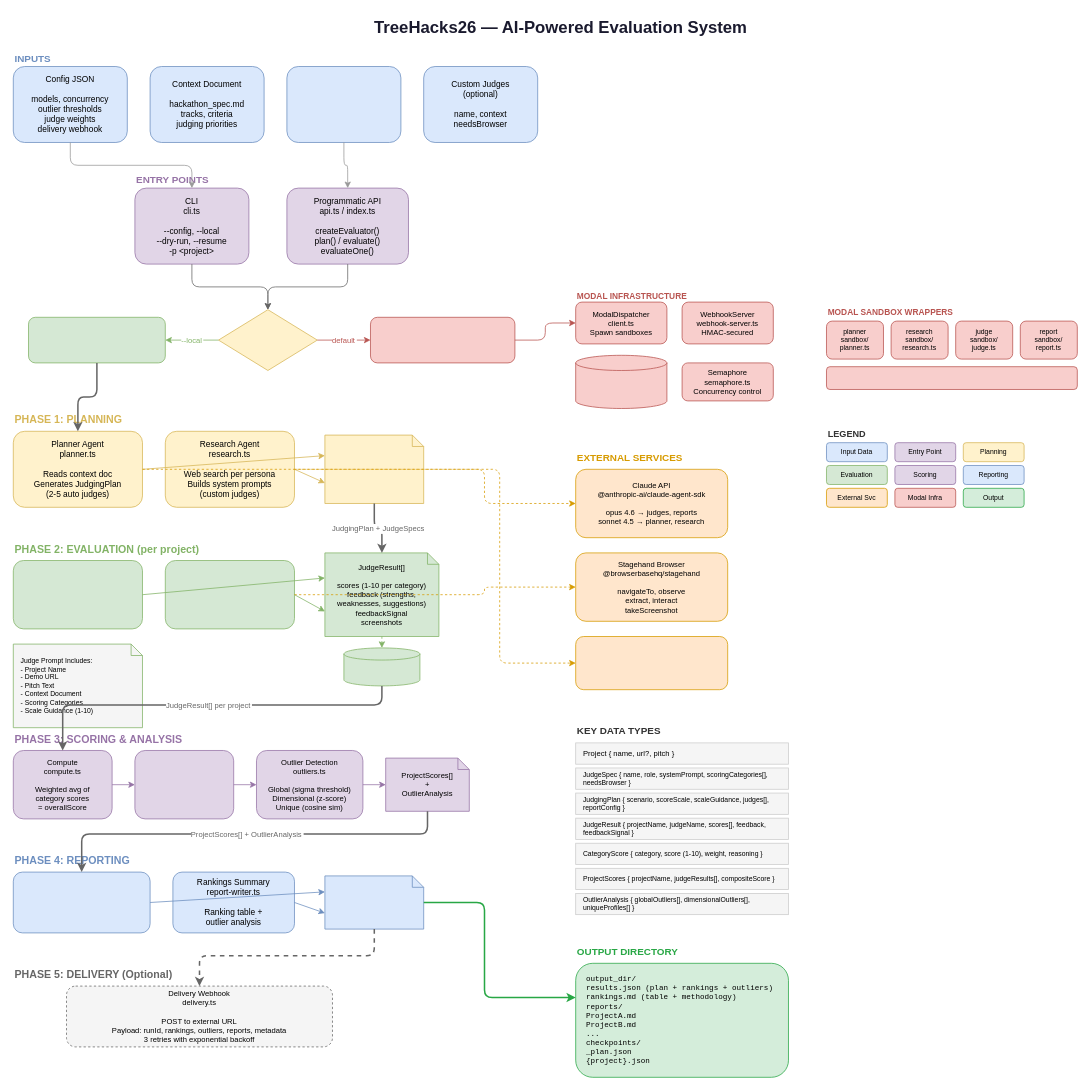
Some shapes in this 1091 by 1091 pixel diagram are drawn without their labels. The shapes that lost their labels are listed below. From the top down, each one's centre as x and y in pixels, then its label:
At [343,104]: "Projects CSV name url (demo link) pitch (text)".
At [96,340]: "Local Orchestrator orchestrator.ts In-process execution".
At [267,339]: "Execution Mode?".
At [442,340]: "Modal Orchestrator orchestrator-modal.ts Distributed sandboxes".
At [621,381]: "Volumes eval-agent-code eval-run-{id} eval-agent-cache".
At [951,378]: "utils.ts — parseSandboxArgs(), postWebhookNotification()".
At [374,469]: "JudgingPlan scenario judges[] scaleGuidance reportConfig".
At [77,594]: "Text Judges judge.ts Evaluate from pitch text Promise.all() parallel".
At [229,594]: "Browser Judges judge.ts + stagehand.ts Visit demo URL Batched concurrency".
At [381,666]: "Checkpoint {project}.json".
At [651,663]: "Web Search / Fetch Research personas Judge web access".
At [184,784]: "Normalize normalize.ts Z-score: 5.5 + z*1.5 clamped [1, 10]".
At [81,902]: "Report Writer Agent report-writer.ts Deep markdown report per project (Claude)".
At [374,902]: "reports/*.md rankings.md results.json".
